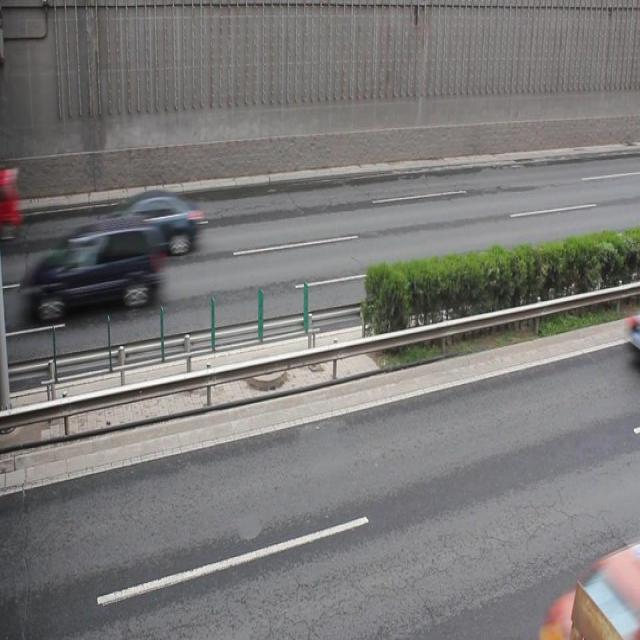car: (105, 191, 204, 256)
truck: (44, 214, 159, 319)
